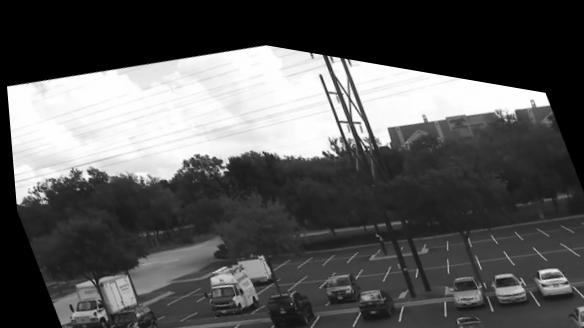empty: (497, 295, 549, 321), (392, 283, 442, 308), (308, 300, 351, 320), (166, 281, 207, 298), (474, 239, 512, 257), (504, 233, 542, 250), (224, 310, 264, 326), (445, 244, 478, 261), (556, 239, 584, 259), (537, 227, 574, 242), (377, 255, 414, 270), (499, 224, 533, 240), (185, 317, 231, 328), (412, 250, 447, 264), (386, 244, 417, 259), (348, 232, 375, 249), (399, 316, 437, 328), (443, 220, 470, 236), (470, 230, 503, 243), (255, 273, 289, 285), (518, 241, 547, 255), (442, 236, 475, 248), (465, 215, 493, 229), (285, 270, 320, 281), (415, 239, 443, 252), (529, 220, 559, 232), (538, 205, 565, 218), (322, 240, 347, 254), (330, 251, 359, 263), (558, 199, 584, 212), (556, 214, 584, 226), (357, 249, 387, 260), (490, 213, 515, 226), (420, 223, 445, 236), (295, 282, 322, 294), (298, 258, 329, 268), (270, 261, 301, 271), (353, 259, 383, 269), (515, 210, 541, 221), (273, 249, 301, 259), (298, 245, 323, 256), (375, 272, 397, 284), (570, 262, 584, 279), (566, 224, 584, 236), (154, 324, 188, 328)
occupied: (205, 257, 255, 310), (262, 282, 312, 323), (95, 300, 154, 328), (529, 247, 571, 282), (354, 276, 392, 310), (452, 300, 495, 328), (317, 262, 357, 292), (448, 260, 482, 292), (490, 256, 525, 287), (519, 307, 569, 328), (565, 286, 584, 318)
